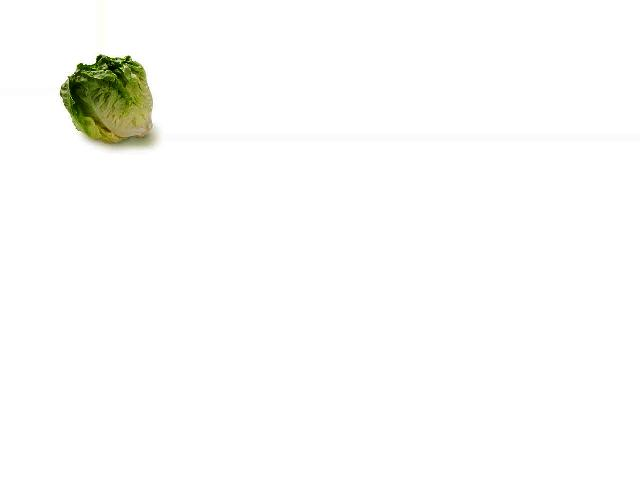lettuce: (55, 51, 158, 141)
